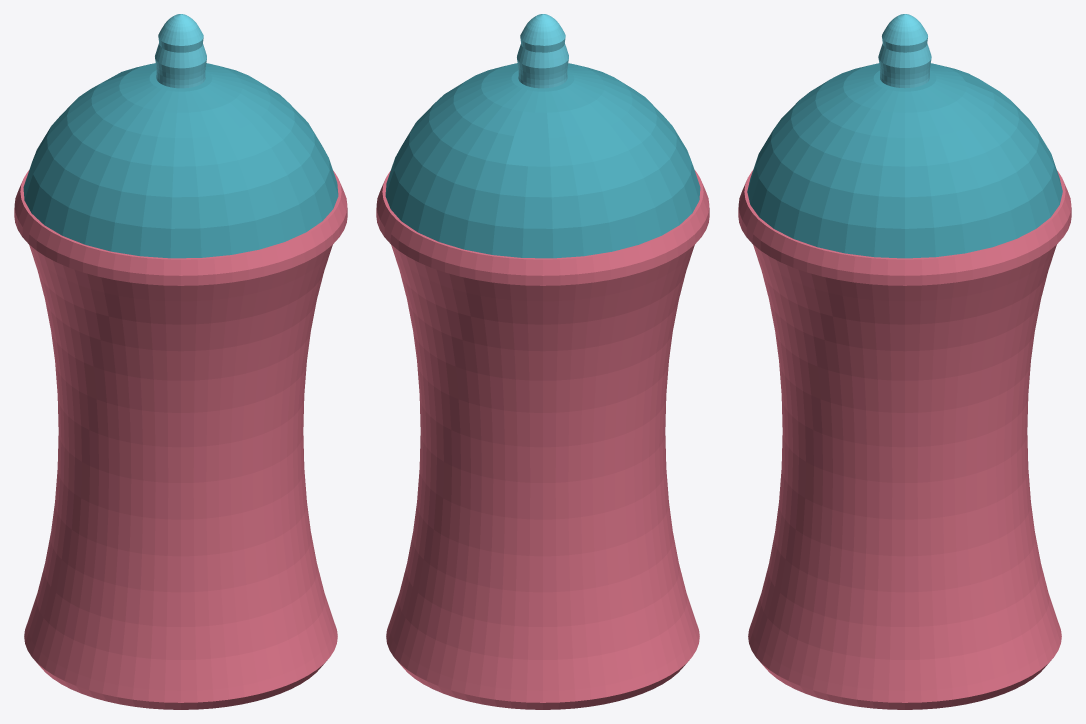
The model's file is Biberon.fbx.
The picture shows the model from 3 angles, left to right: view 1: azimuth 30°, elevation 25°; view 2: azimuth 150°, elevation 25°; view 3: azimuth 270°, elevation 25°; orthographic projection.
Visible parts, largest first — view 1: Bottle; view 2: Bottle; view 3: Bottle.
Part boxes in pixels (x1,y1,x2,y2): Bottle: (14,14,347,709); Bottle: (376,14,709,709); Bottle: (738,14,1071,709).
Bounding box in the file's own units: 64.38 × 135 × 64.38.
